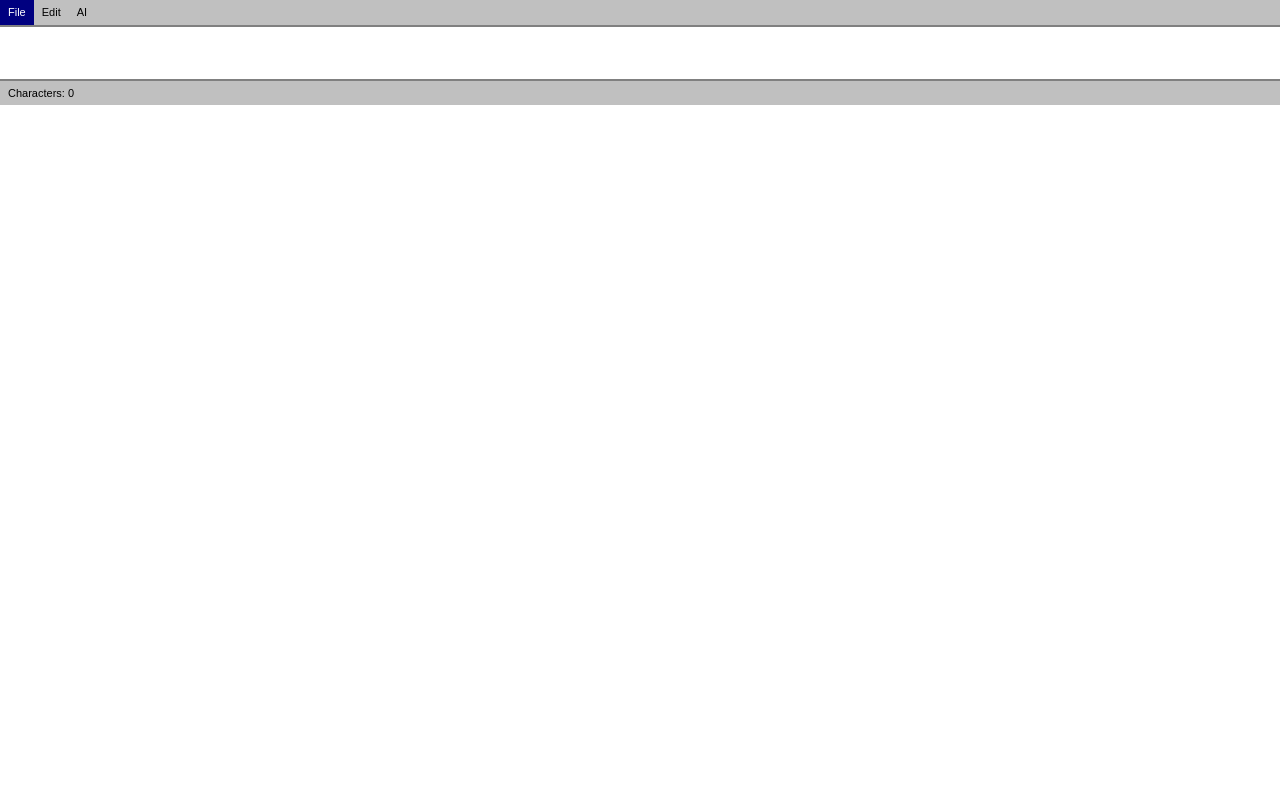
Scenario: Notepad VFS Integration › should open document via keyboard shortcut (Ctrl+O)
The image size is (1280, 800).
Note: Trigger Ctrl+O
Type keys "{Control>}o{/Control}"
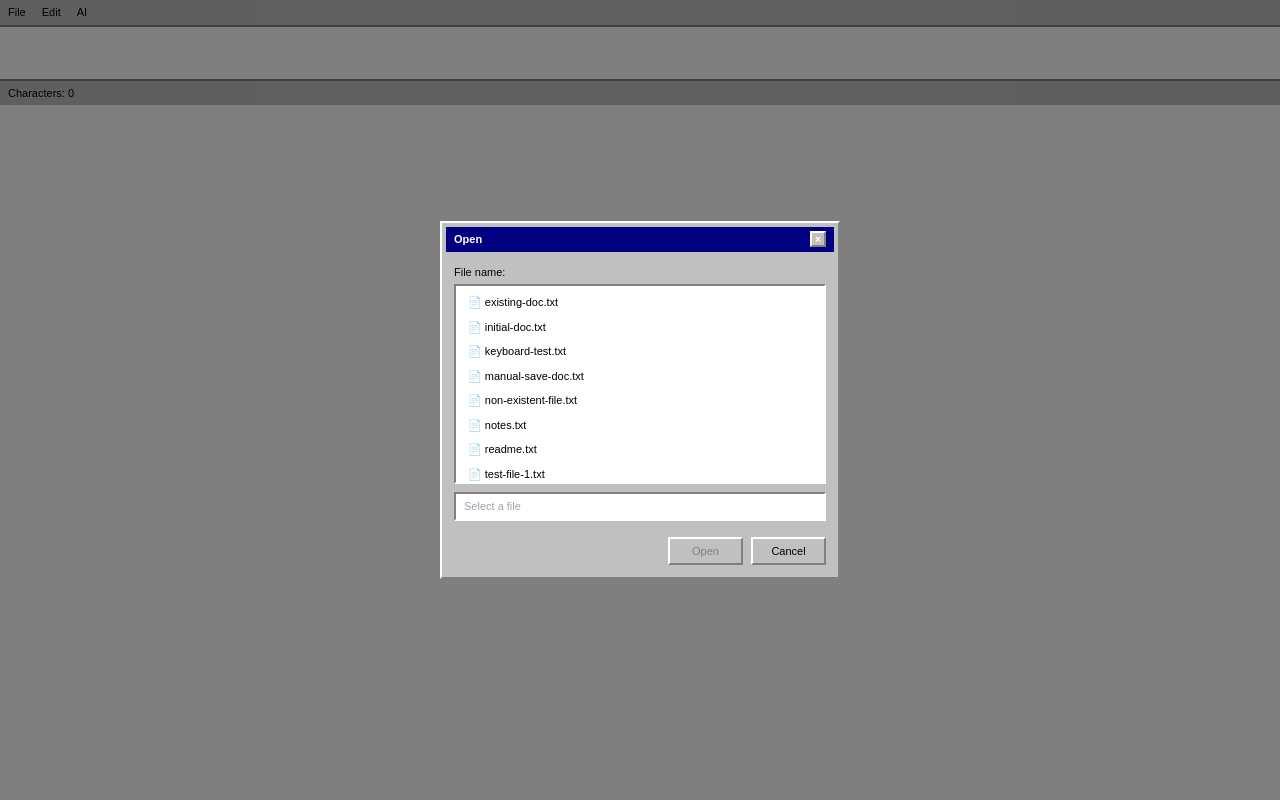
Check: the text "File name:" is shown, box [454,266,505,278]
Check: the option "📄 keyboard-test.txt" is shown
Note: Select and open the file
Click the option "📄 keyboard-test.txt". click: (517, 351)
box: [468,345,566,357]
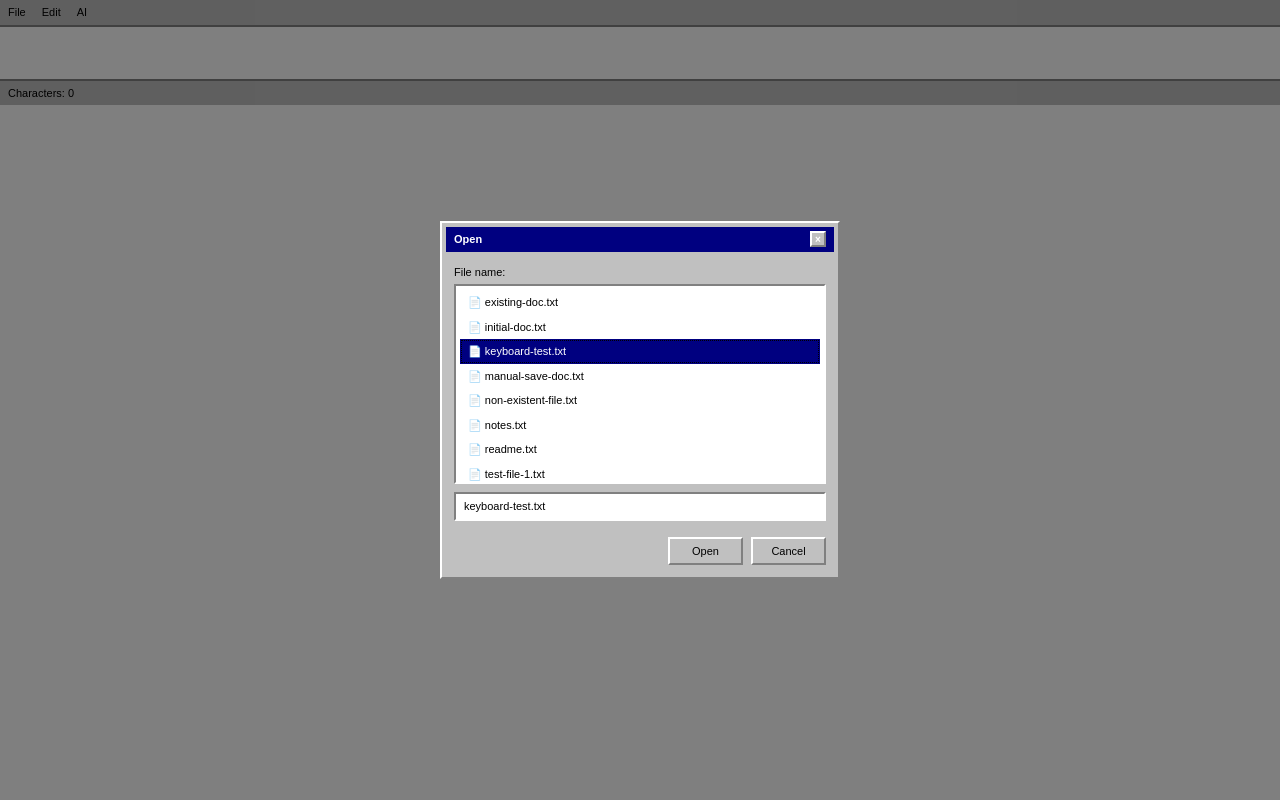
Click the button "Open". click: (706, 551)
box: [668,536,743,565]
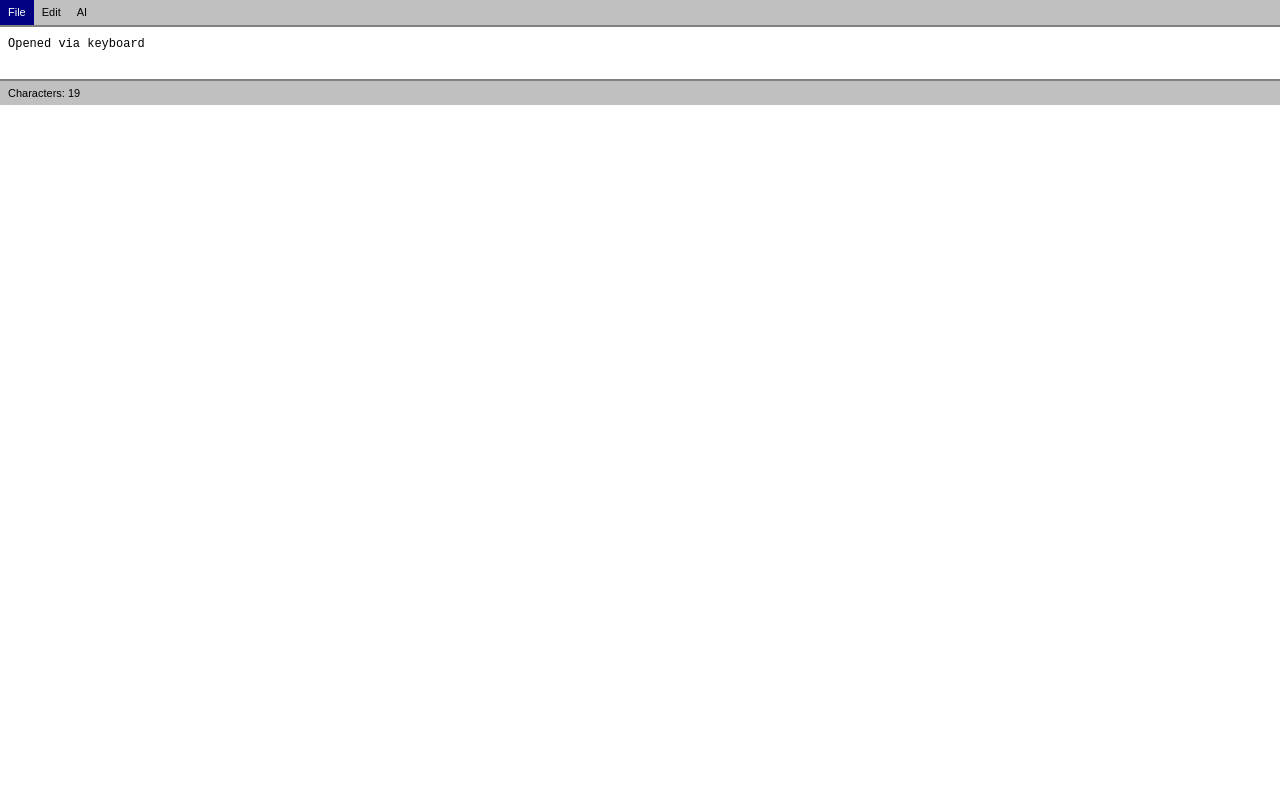
Check: the text box named "Document content" holds "Opened via keyboard", box [0,26,1279,78]
